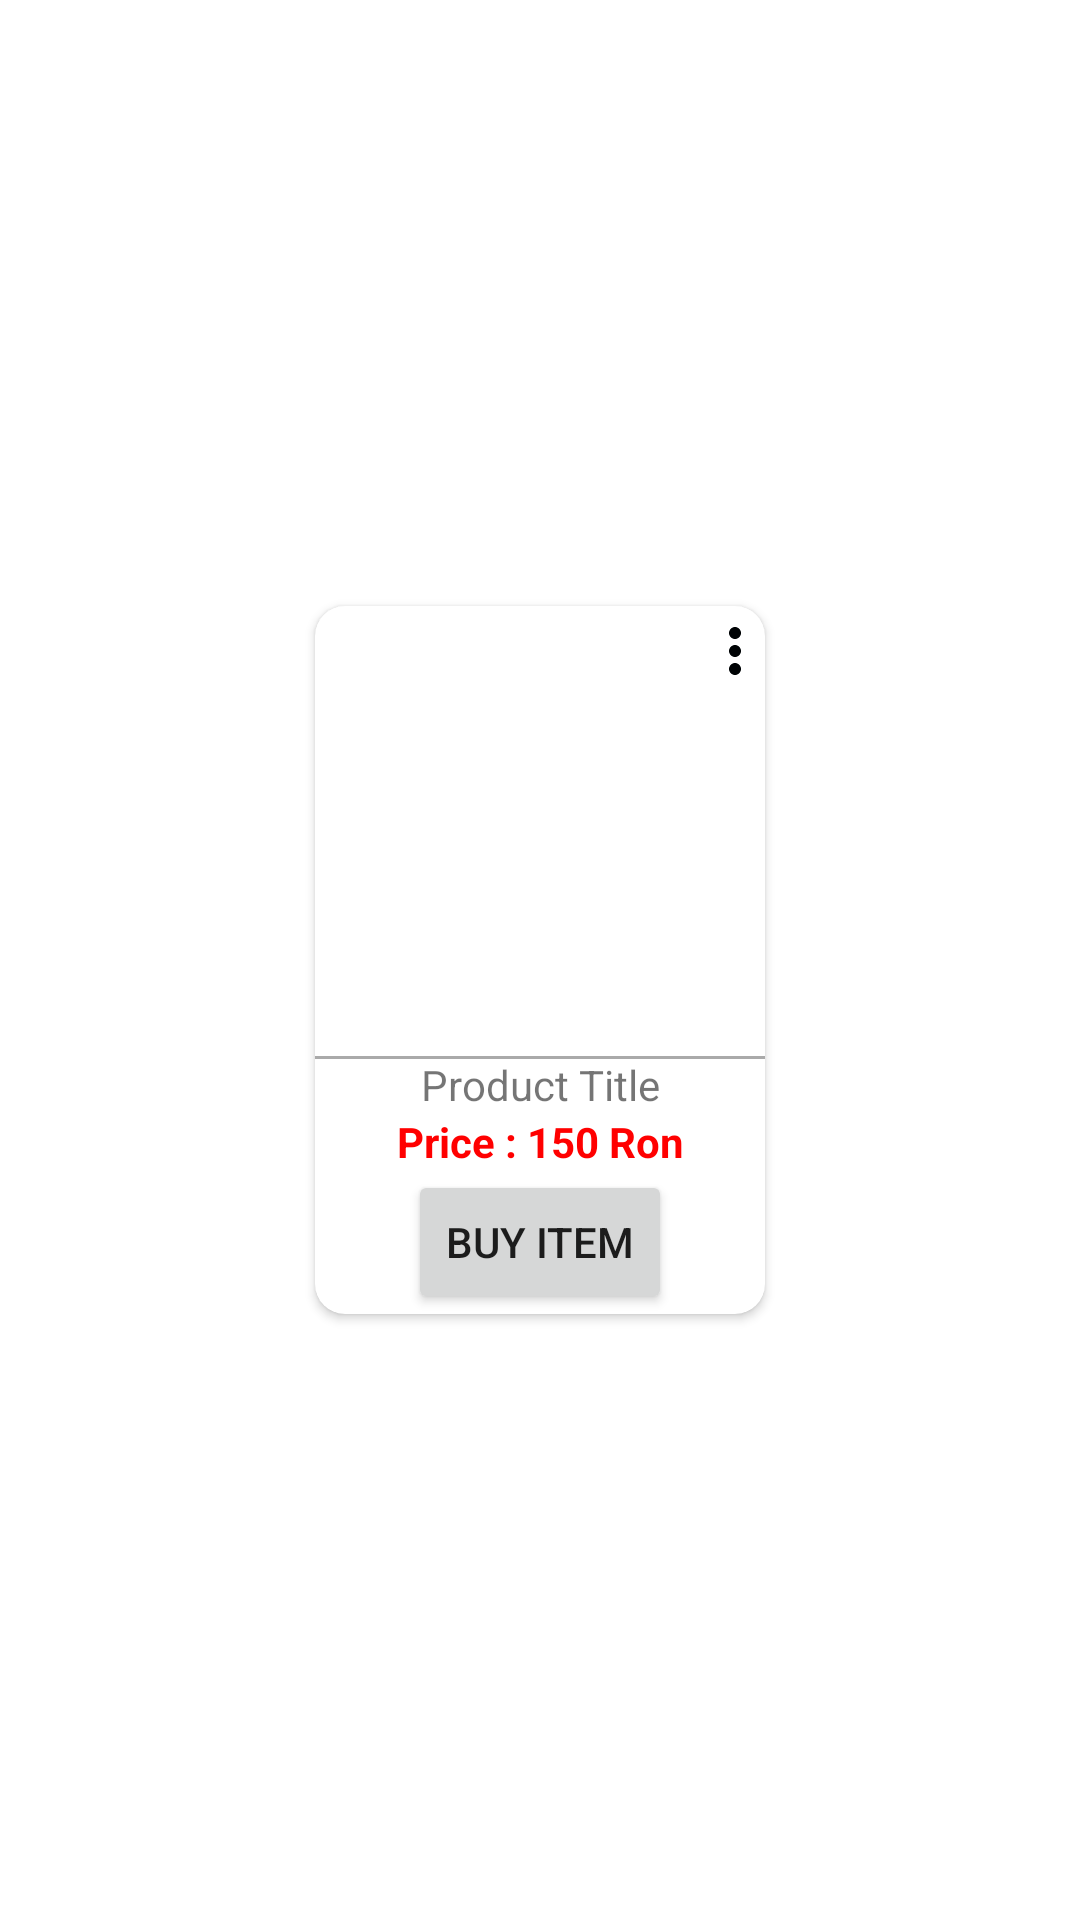

Icons on this 1080px×1920px Android screen, each with its box as bbox=(x1, y1, x2, y2):
Pop menu option: bbox=(729, 627, 741, 675)
